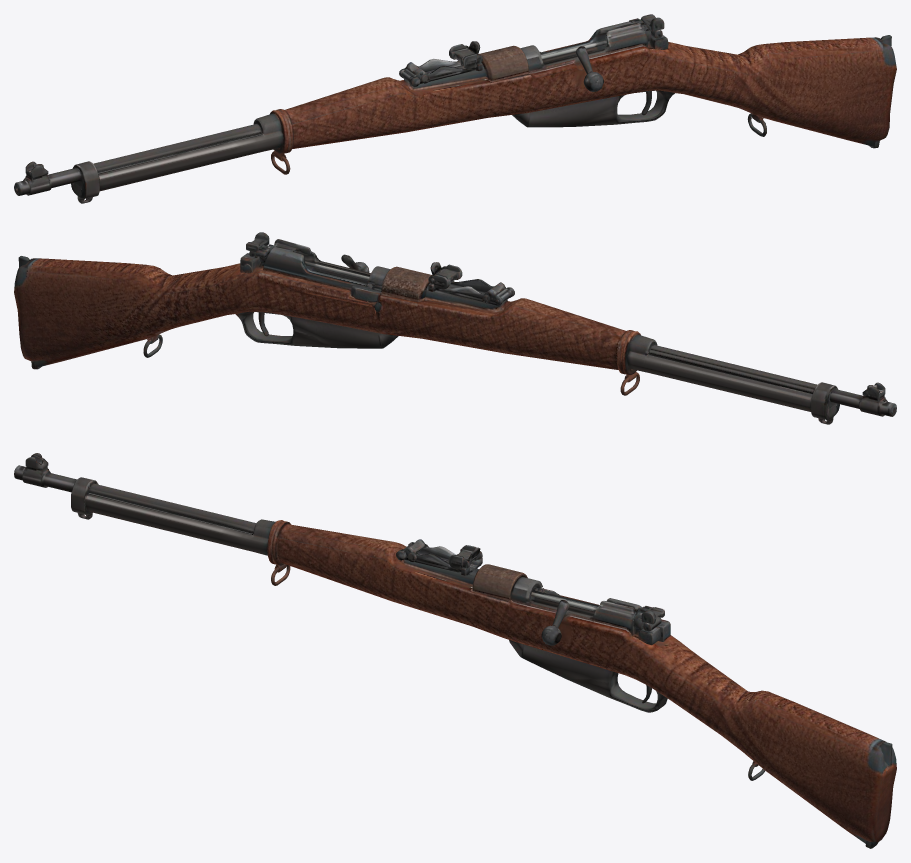
Rendered from tripo_convert_156acf08-9d73-46ec-b784-96cecce32001.fbx.
The picture shows the model from 3 angles, top to bottom: view 1: azimuth 30°, elevation 25°; view 2: azimuth 150°, elevation 25°; view 3: azimuth 330°, elevation 25°; orthographic projection.
Visible parts, largest first — view 1: tripo_node_156acf08; view 2: tripo_node_156acf08; view 3: tripo_node_156acf08.
Boxes of the visible parts, box(x1,y1,x2,y2) form: tripo_node_156acf08: box(14, 14, 896, 203); tripo_node_156acf08: box(14, 232, 896, 424); tripo_node_156acf08: box(14, 453, 896, 848).
Bounding box in the file's own units: 0.9995 × 0.2202 × 0.0786.
Materials: 1 (1 with a texture image).
